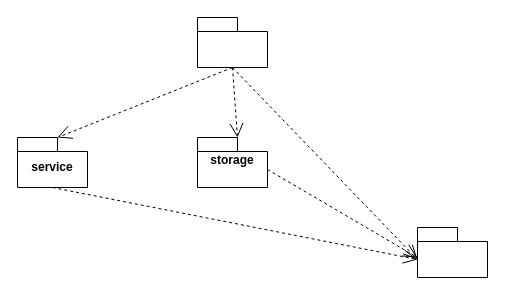
The diagram is 505 pixels wide and 295 high, and some of its shapes have lost their labels. The centre of each missing label's shape, as x and y in pixels:
"model" goes at point 452,252.
"ui" goes at point 232,42.
